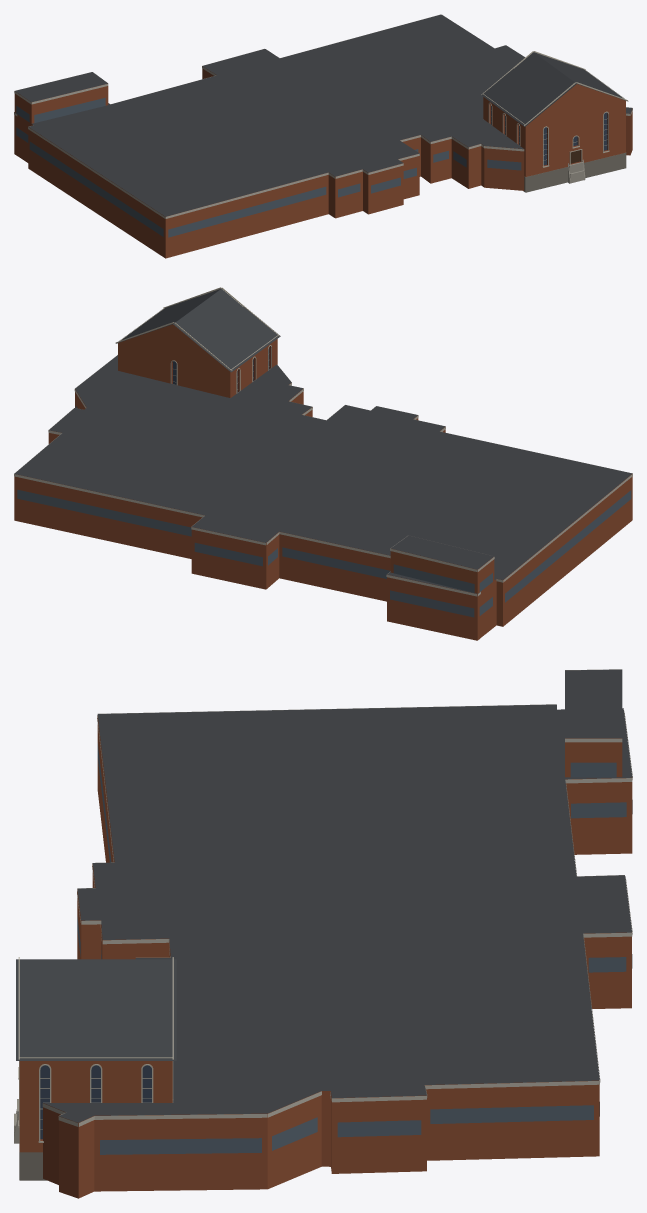
The model's file is central-baptist-nlr.glb.
3 views of the same model, one above another, from view 1: azimuth 30°, elevation 25°; view 2: azimuth 150°, elevation 25°; view 3: azimuth 270°, elevation 25° (orthographic). The views are drawn at different scales.
Visible parts, largest first — view 1: central_baptist_nlr; view 2: central_baptist_nlr; view 3: central_baptist_nlr.
Part boxes in pixels (x1,y1,x2,y2): central_baptist_nlr: (14, 14, 632, 258); central_baptist_nlr: (14, 287, 632, 640); central_baptist_nlr: (14, 669, 632, 1198).
Bounding box in the file's own units: 104 × 20.68 × 64.7.
